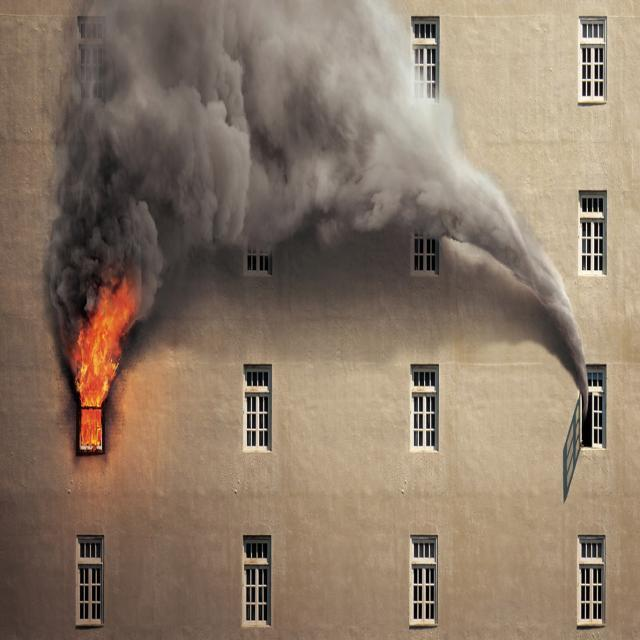Fire: (66, 276, 132, 464)
Smoke: (47, 2, 591, 434)
